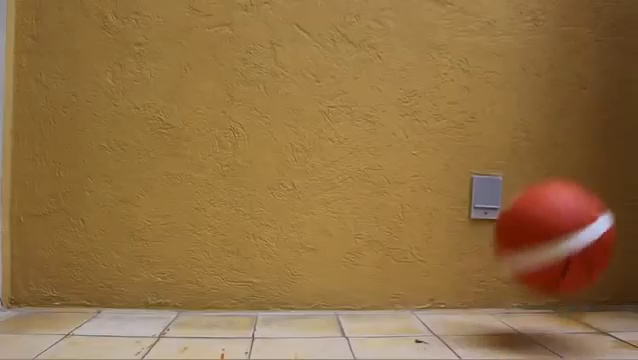ball: (493, 177, 620, 305)
